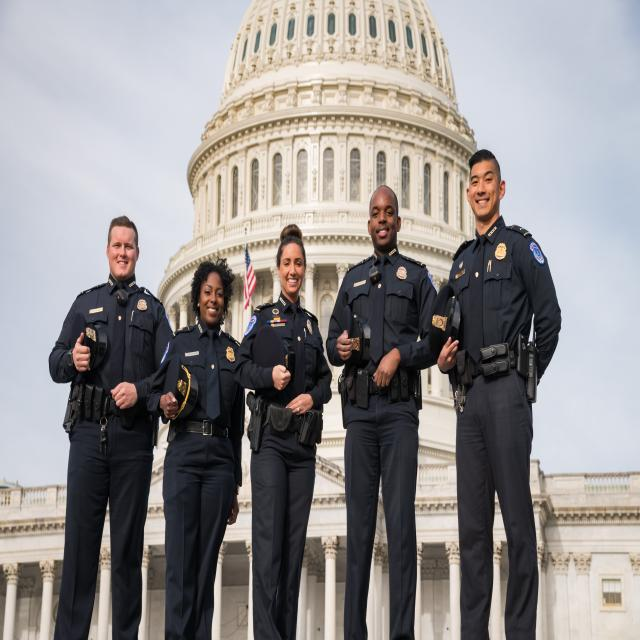police: (446, 138, 566, 640), (332, 172, 444, 640), (54, 209, 170, 614), (239, 217, 334, 640), (153, 245, 243, 635)
